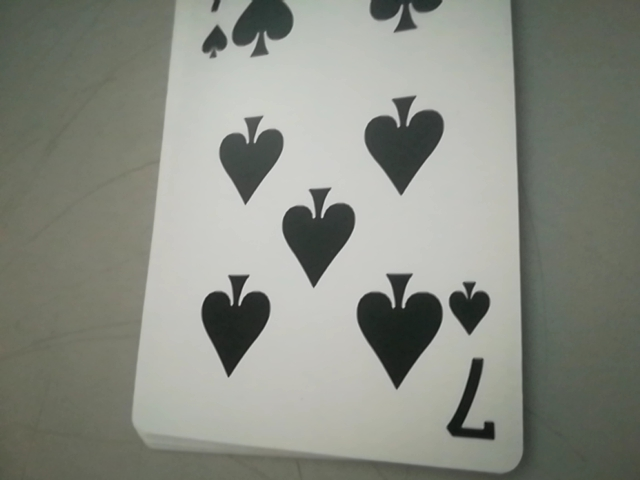ht 7: (446, 275, 503, 444)
